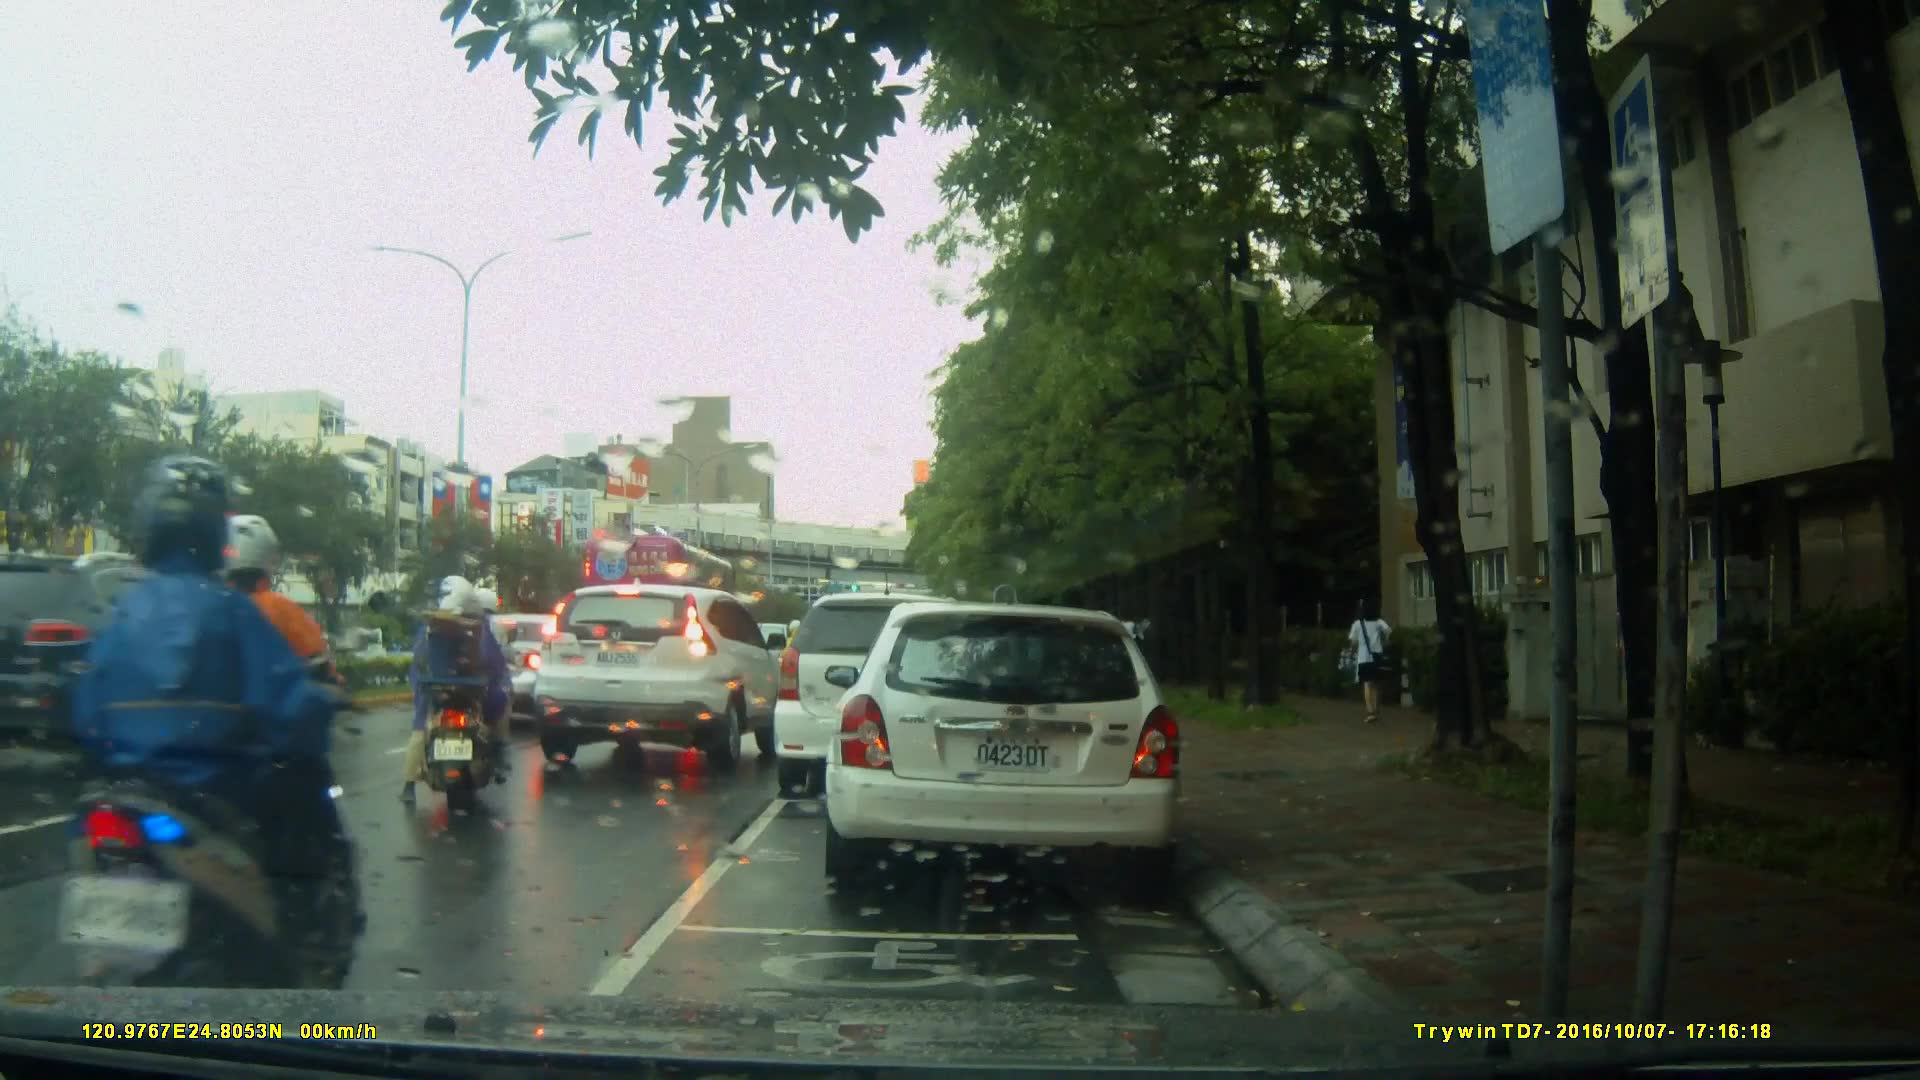pedestrian: (1336, 587, 1400, 740), (1115, 603, 1143, 684)
rider: (34, 445, 358, 1025), (407, 585, 517, 813), (430, 590, 508, 774)
vehicle: (835, 594, 1194, 898), (1, 548, 291, 768), (519, 584, 799, 777), (776, 590, 1026, 784), (578, 531, 738, 634)
